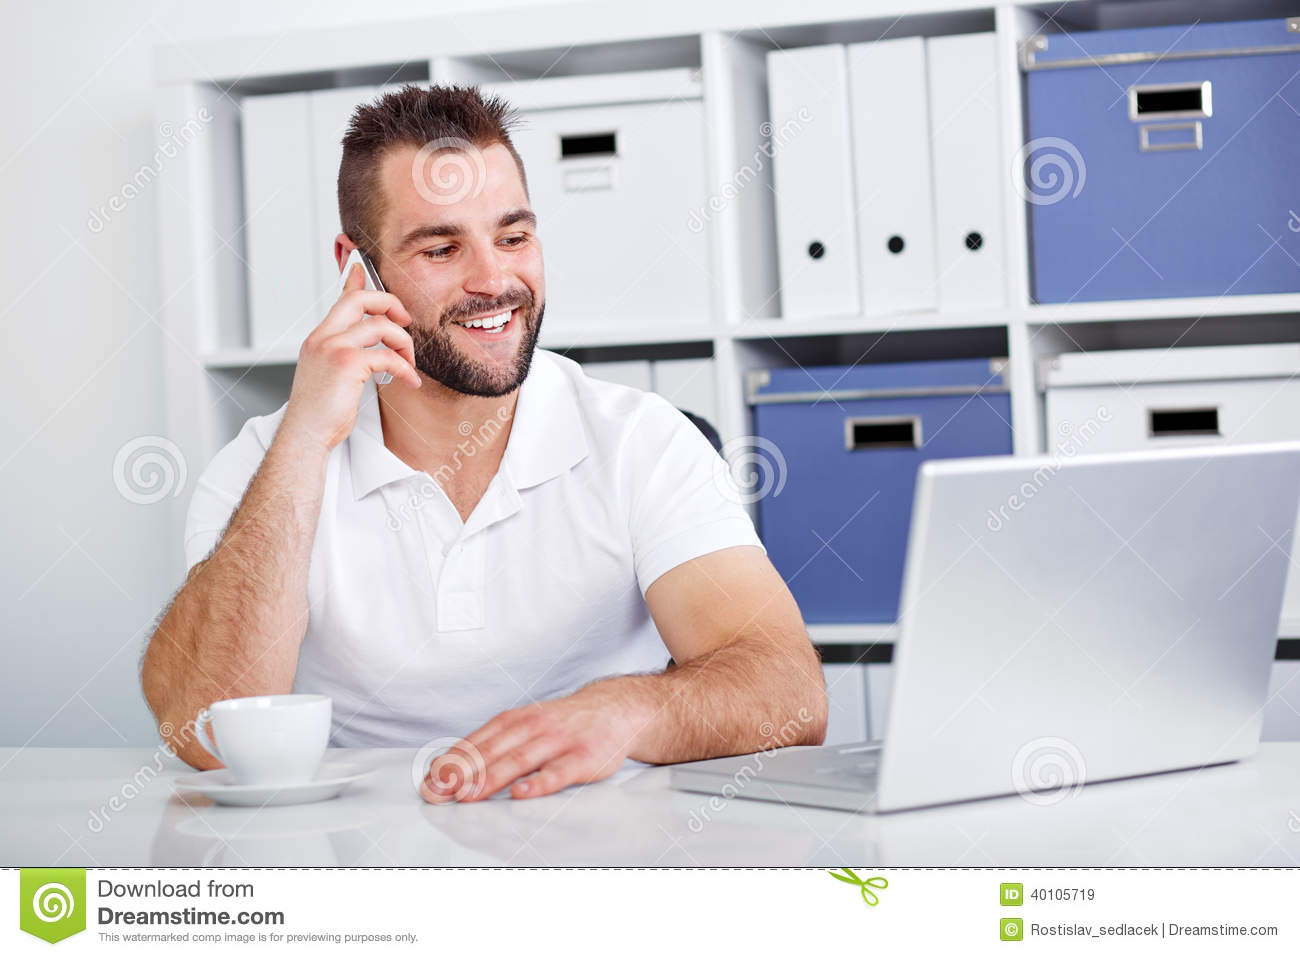phone: (335, 244, 404, 392)
talk: (284, 199, 545, 465)
